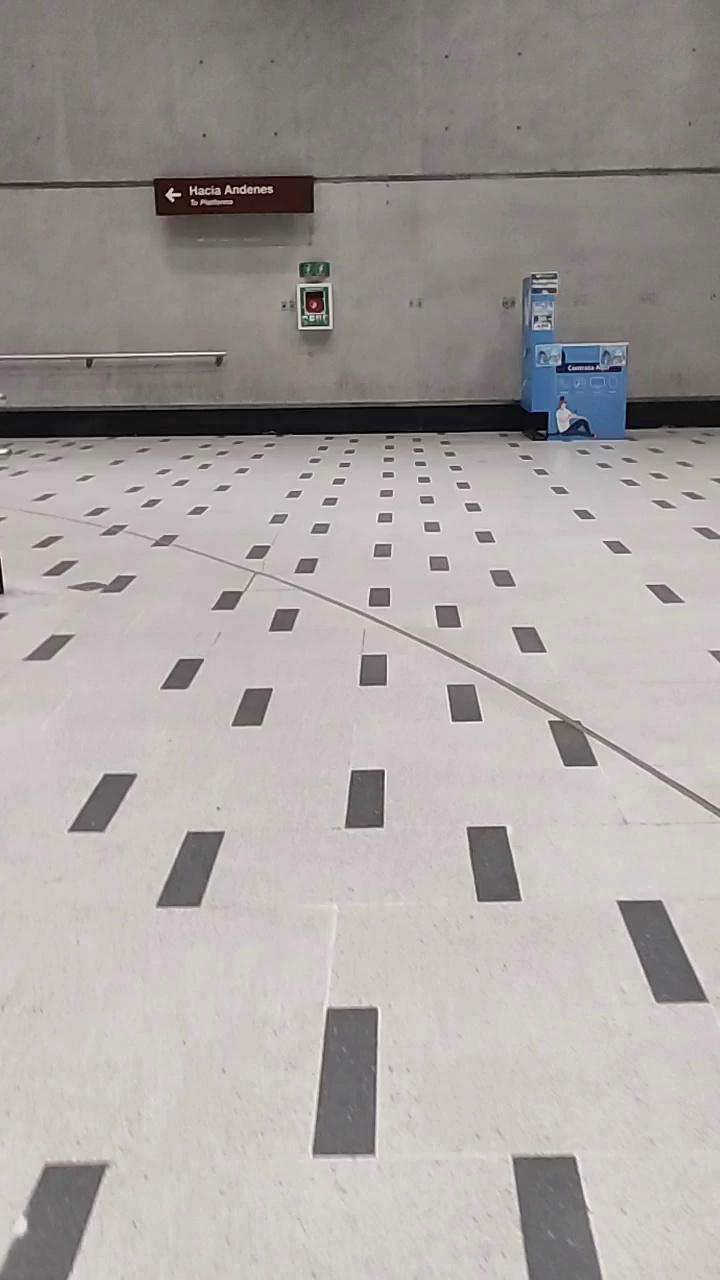left arrow: (160, 182, 192, 208)
